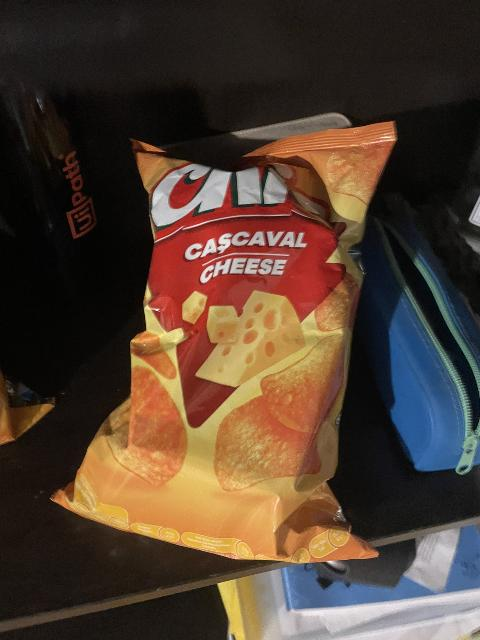Chio Cascaval 125g: (52, 120, 398, 562)
